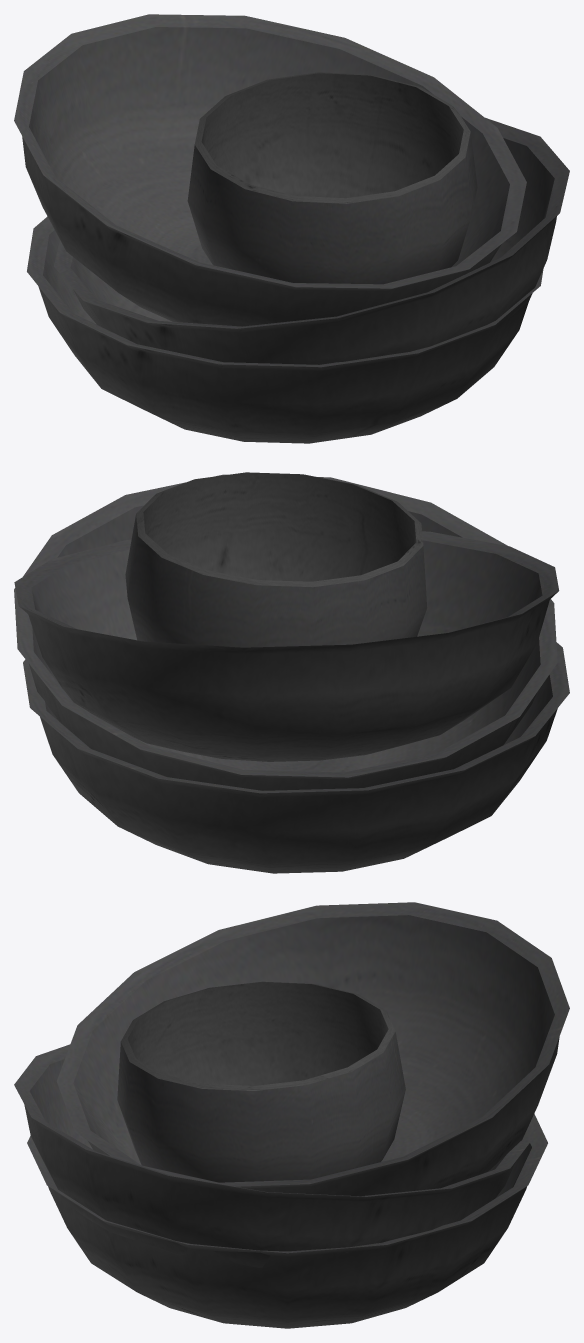
File: stack_bowls-2.FBX
3 views of the same model, one above another, from view 1: azimuth 30°, elevation 25°; view 2: azimuth 150°, elevation 25°; view 3: azimuth 270°, elevation 25° (orthographic). The views are drawn at different scales.
Visible parts, largest first — view 1: stack_bowls-2_LOD0; view 2: stack_bowls-2_LOD0; view 3: stack_bowls-2_LOD0.
Boxes of the visible parts, box(x1,y1,x2,y2) form: stack_bowls-2_LOD0: box(14, 14, 569, 443); stack_bowls-2_LOD0: box(14, 472, 569, 873); stack_bowls-2_LOD0: box(14, 902, 569, 1328).
Size of what is drawn, in the model's own units: 21.24 by 12.27 by 21.81.
